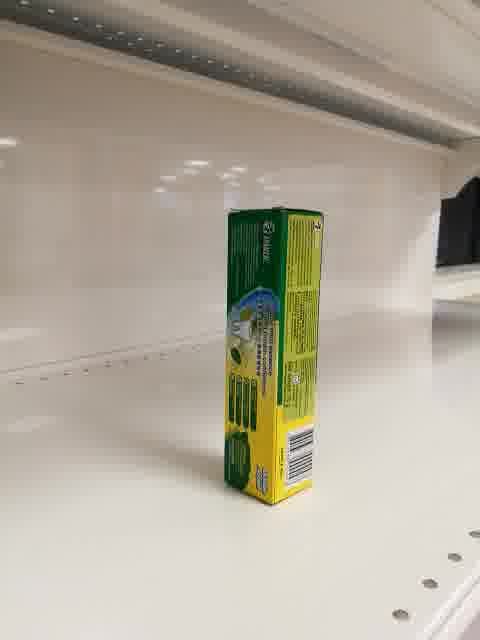toothpaste: (224, 206, 325, 508)
